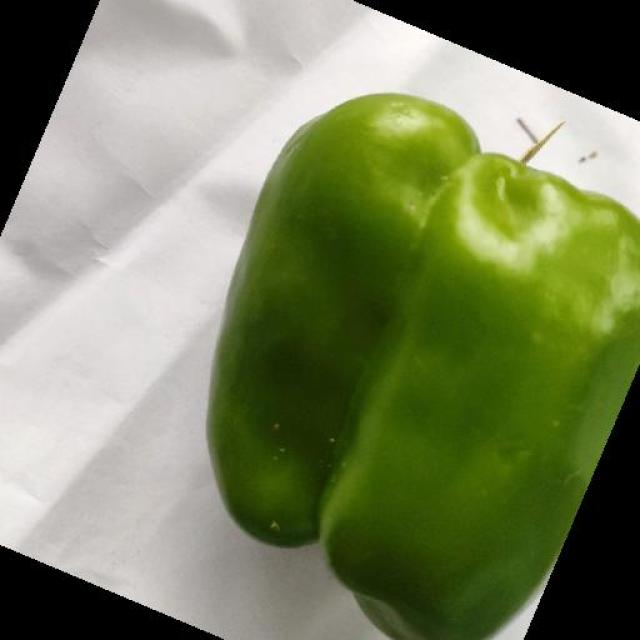Fresh_Capsicum: (227, 65, 630, 640)
